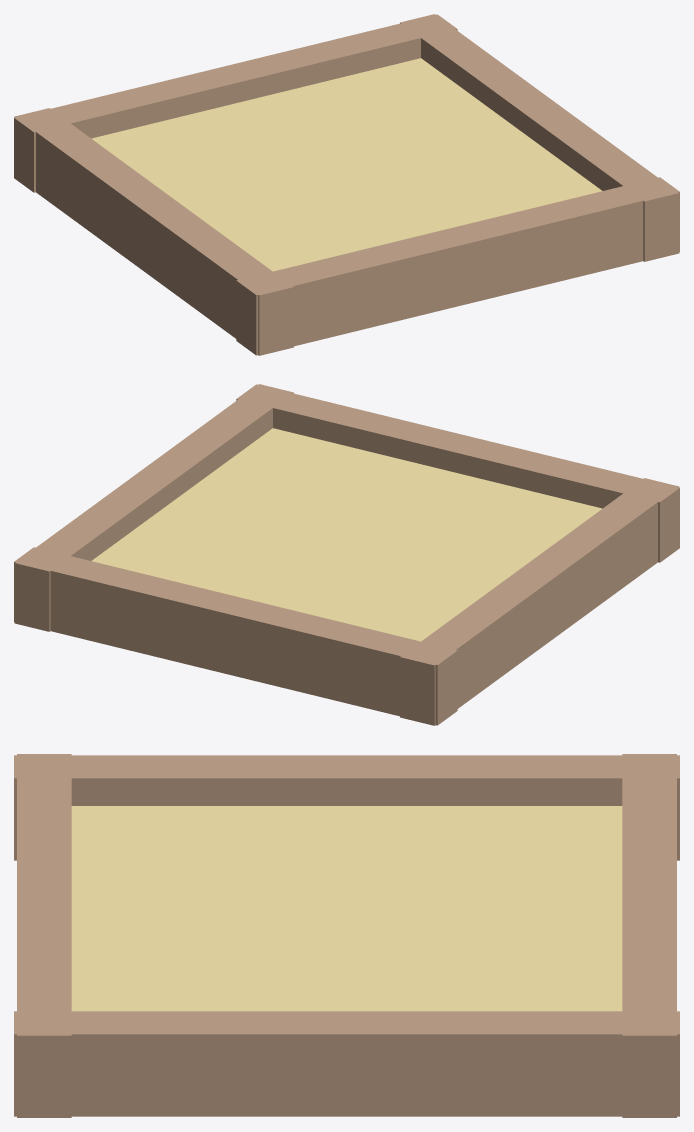
The model's file is sandbox.glb.
3 renders of one model, top to bottom at view 1: azimuth 30°, elevation 25°; view 2: azimuth 150°, elevation 25°; view 3: azimuth 270°, elevation 25°, orthographic. The views are drawn at different scales.
Visible parts, largest first — view 1: sandbox_000, sandbox_001, sandbox_003, sandbox_002, sandbox_004; view 2: sandbox_000, sandbox_002, sandbox_003, sandbox_001, sandbox_004; view 3: sandbox_000, sandbox_004, sandbox_003, sandbox_001, sandbox_002.
Boxes of the visible parts, left/top/right/bottom form: sandbox_000: left=91, top=58, right=602, bottom=271; sandbox_001: left=236, top=177, right=679, bottom=355; sandbox_003: left=14, top=108, right=293, bottom=355; sandbox_002: left=14, top=14, right=457, bottom=192; sandbox_004: left=400, top=14, right=679, bottom=261; sandbox_000: left=91, top=428, right=602, bottom=641; sandbox_002: left=14, top=547, right=457, bottom=725; sandbox_003: left=400, top=478, right=679, bottom=725; sandbox_001: left=236, top=384, right=679, bottom=562; sandbox_004: left=14, top=384, right=293, bottom=631; sandbox_000: left=71, top=806, right=622, bottom=1011; sandbox_004: left=14, top=1011, right=679, bottom=1116; sandbox_003: left=14, top=755, right=679, bottom=860; sandbox_001: left=17, top=754, right=71, bottom=1117; sandbox_002: left=622, top=754, right=676, bottom=1117.
Bounding box in the file's own units: 2.2 × 0.3 × 2.2.
